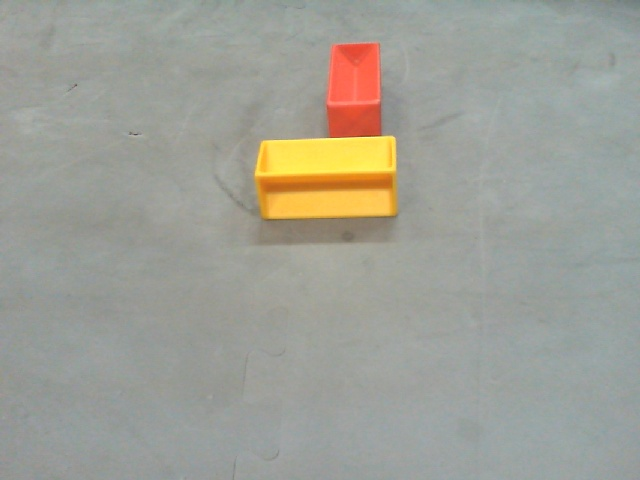RedSample: (325, 40, 382, 137)
YellowSample: (251, 135, 399, 224)
